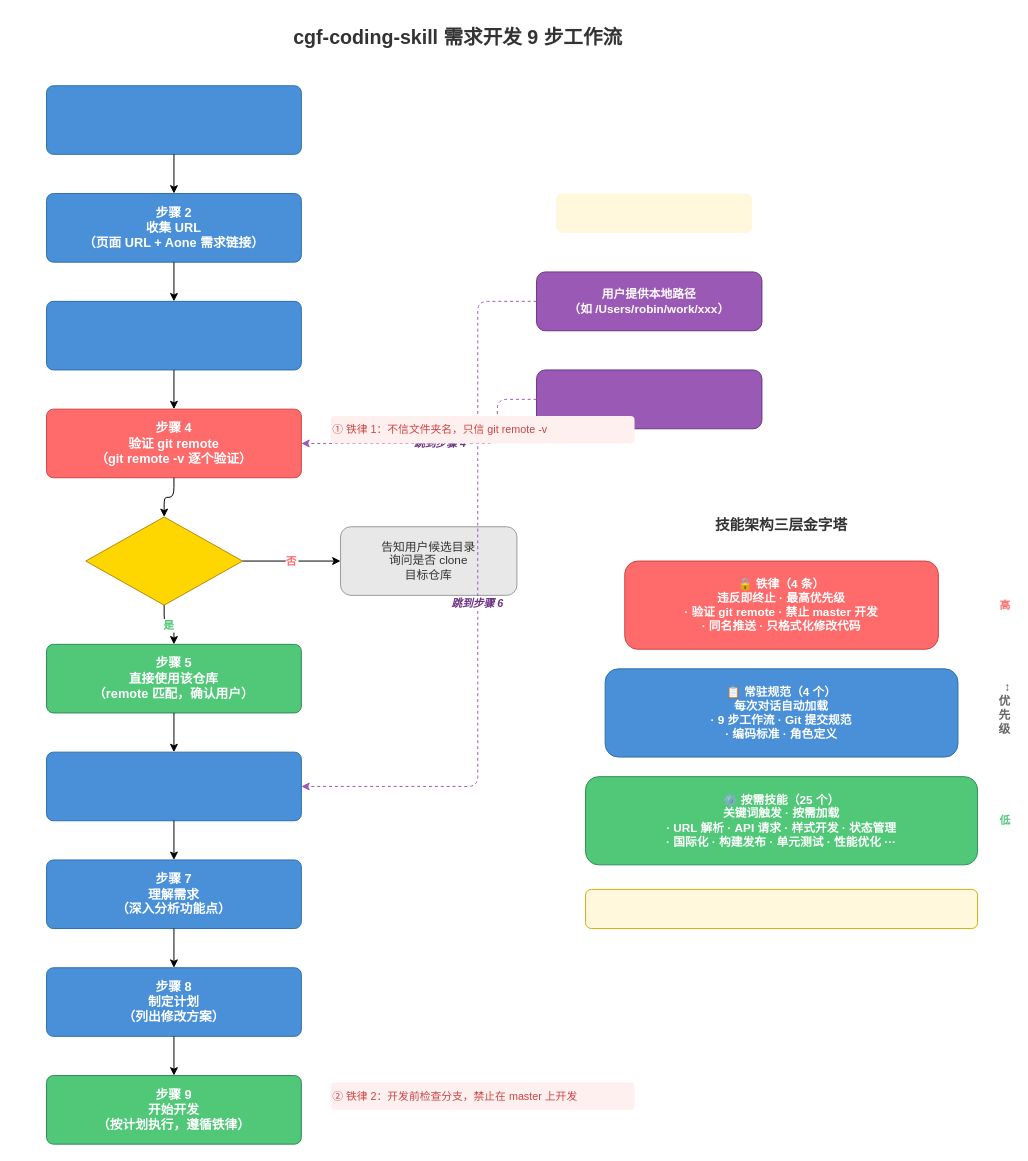
Some shapes in this 1028 by 1161 pixel diagram are drawn without their labels. The centre of each missing label's shape, as x and y in pixels:
remote 匹配？: the point at 164,560
⚡ 快速跳转路径: the point at 654,212
步骤 1 识别需求 （从 Aone 链接获取需求信息）: the point at 173,119
步骤 3 解析 URL （提取代码组 + 仓库名）: the point at 173,335
步骤 6 查看项目结构 （判断 ICE 版本，读取 package.json）: the point at 173,786
用户提供 Git 地址 （如 git@gitlab...xxx.git）: the point at 649,399
💡 设计原则：宁可误触发，不可漏触发: the point at 781,908
